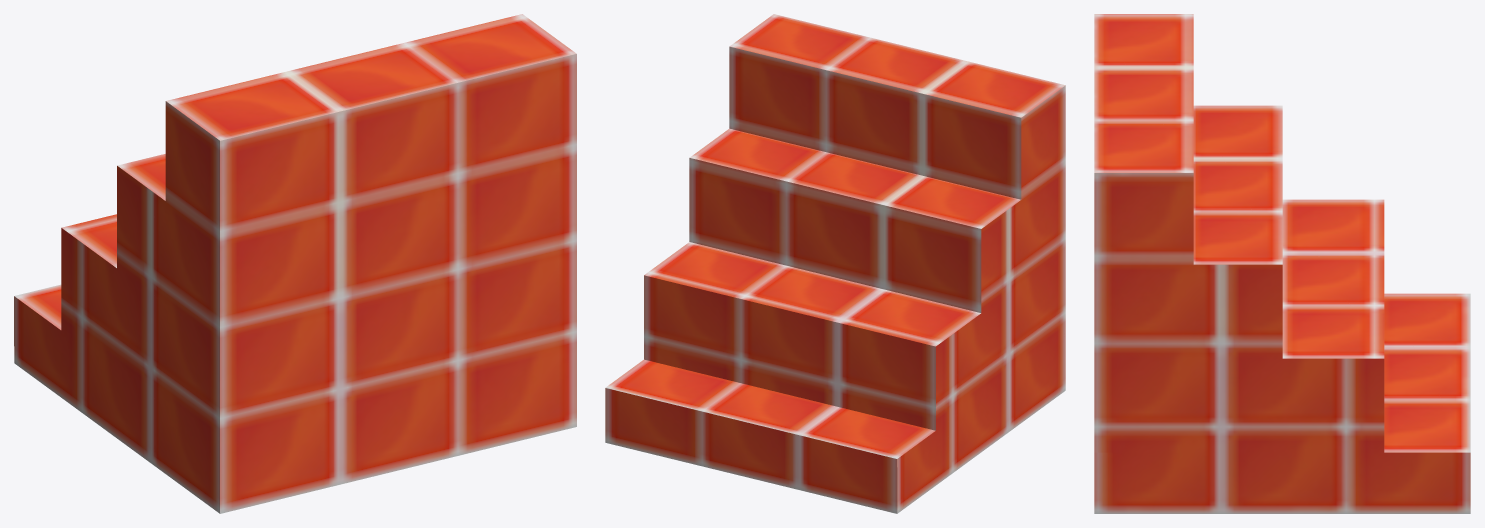
Rendered from POL0510003.fbx.
3 views of the same model, side by side, from view 1: azimuth 30°, elevation 25°; view 2: azimuth 150°, elevation 25°; view 3: azimuth 270°, elevation 25° (orthographic). The views are drawn at different scales.
Parts seen in each view (by area): view 1: smPOL0510003; view 2: smPOL0510003; view 3: smPOL0510003.
Boxes of the visible parts, left/top/right/bottom form: smPOL0510003: left=14, top=14, right=576, bottom=513; smPOL0510003: left=605, top=14, right=1065, bottom=513; smPOL0510003: left=1094, top=14, right=1470, bottom=513.
Size of the model in its own units: 161 by 161 by 161.
1 material, 1 textured.
